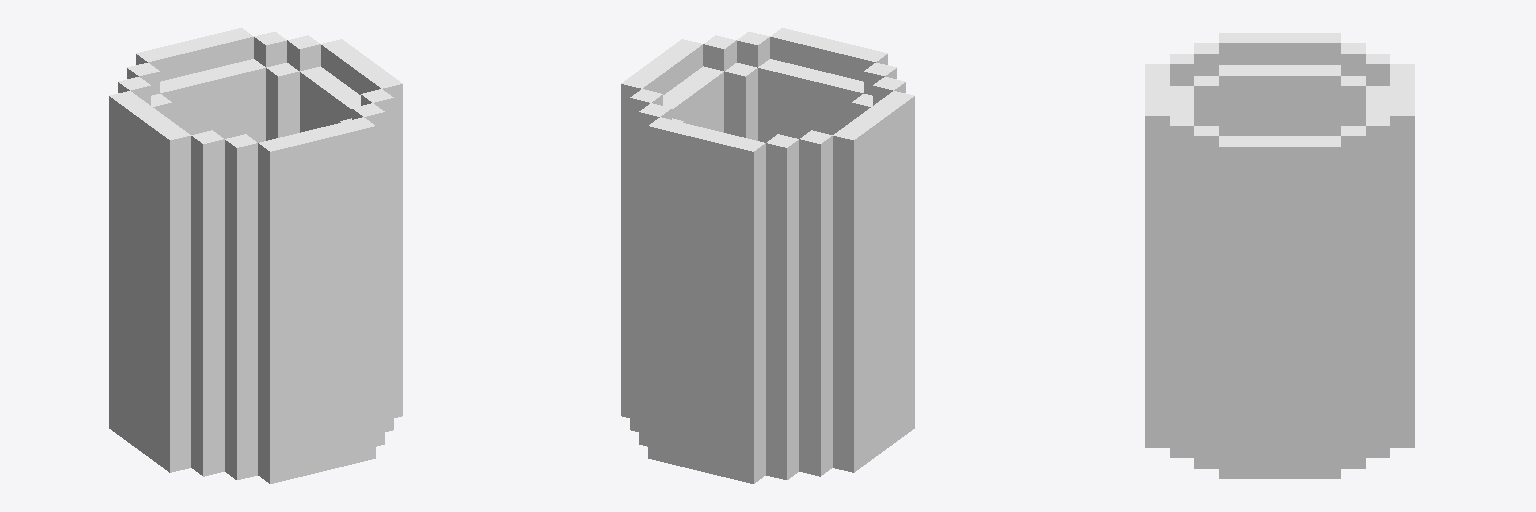
Rendered from garbage_can_open.obj.
3 renders of one model, left to right at view 1: azimuth 30°, elevation 25°; view 2: azimuth 150°, elevation 25°; view 3: azimuth 270°, elevation 25°, orthographic.
Visible parts, largest first — view 1: object 1; view 2: object 1; view 3: object 1.
Boxes of the visible parts, box(x1,y1,x2,y2) form: object 1: box(109, 28, 402, 483); object 1: box(621, 28, 914, 483); object 1: box(1145, 33, 1414, 478).
Size of the model in its own units: 1.1 by 1.5 by 1.1.